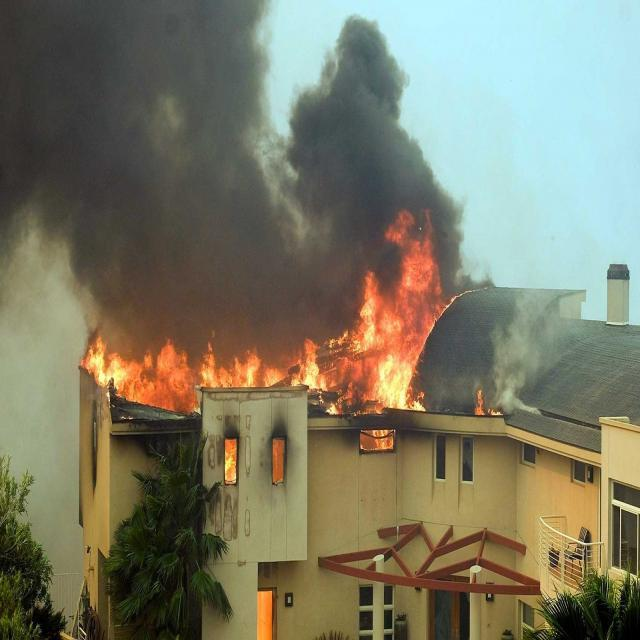Fire: (85, 329, 433, 414), (358, 211, 440, 414), (362, 430, 392, 453), (478, 388, 500, 418), (226, 446, 237, 483)
